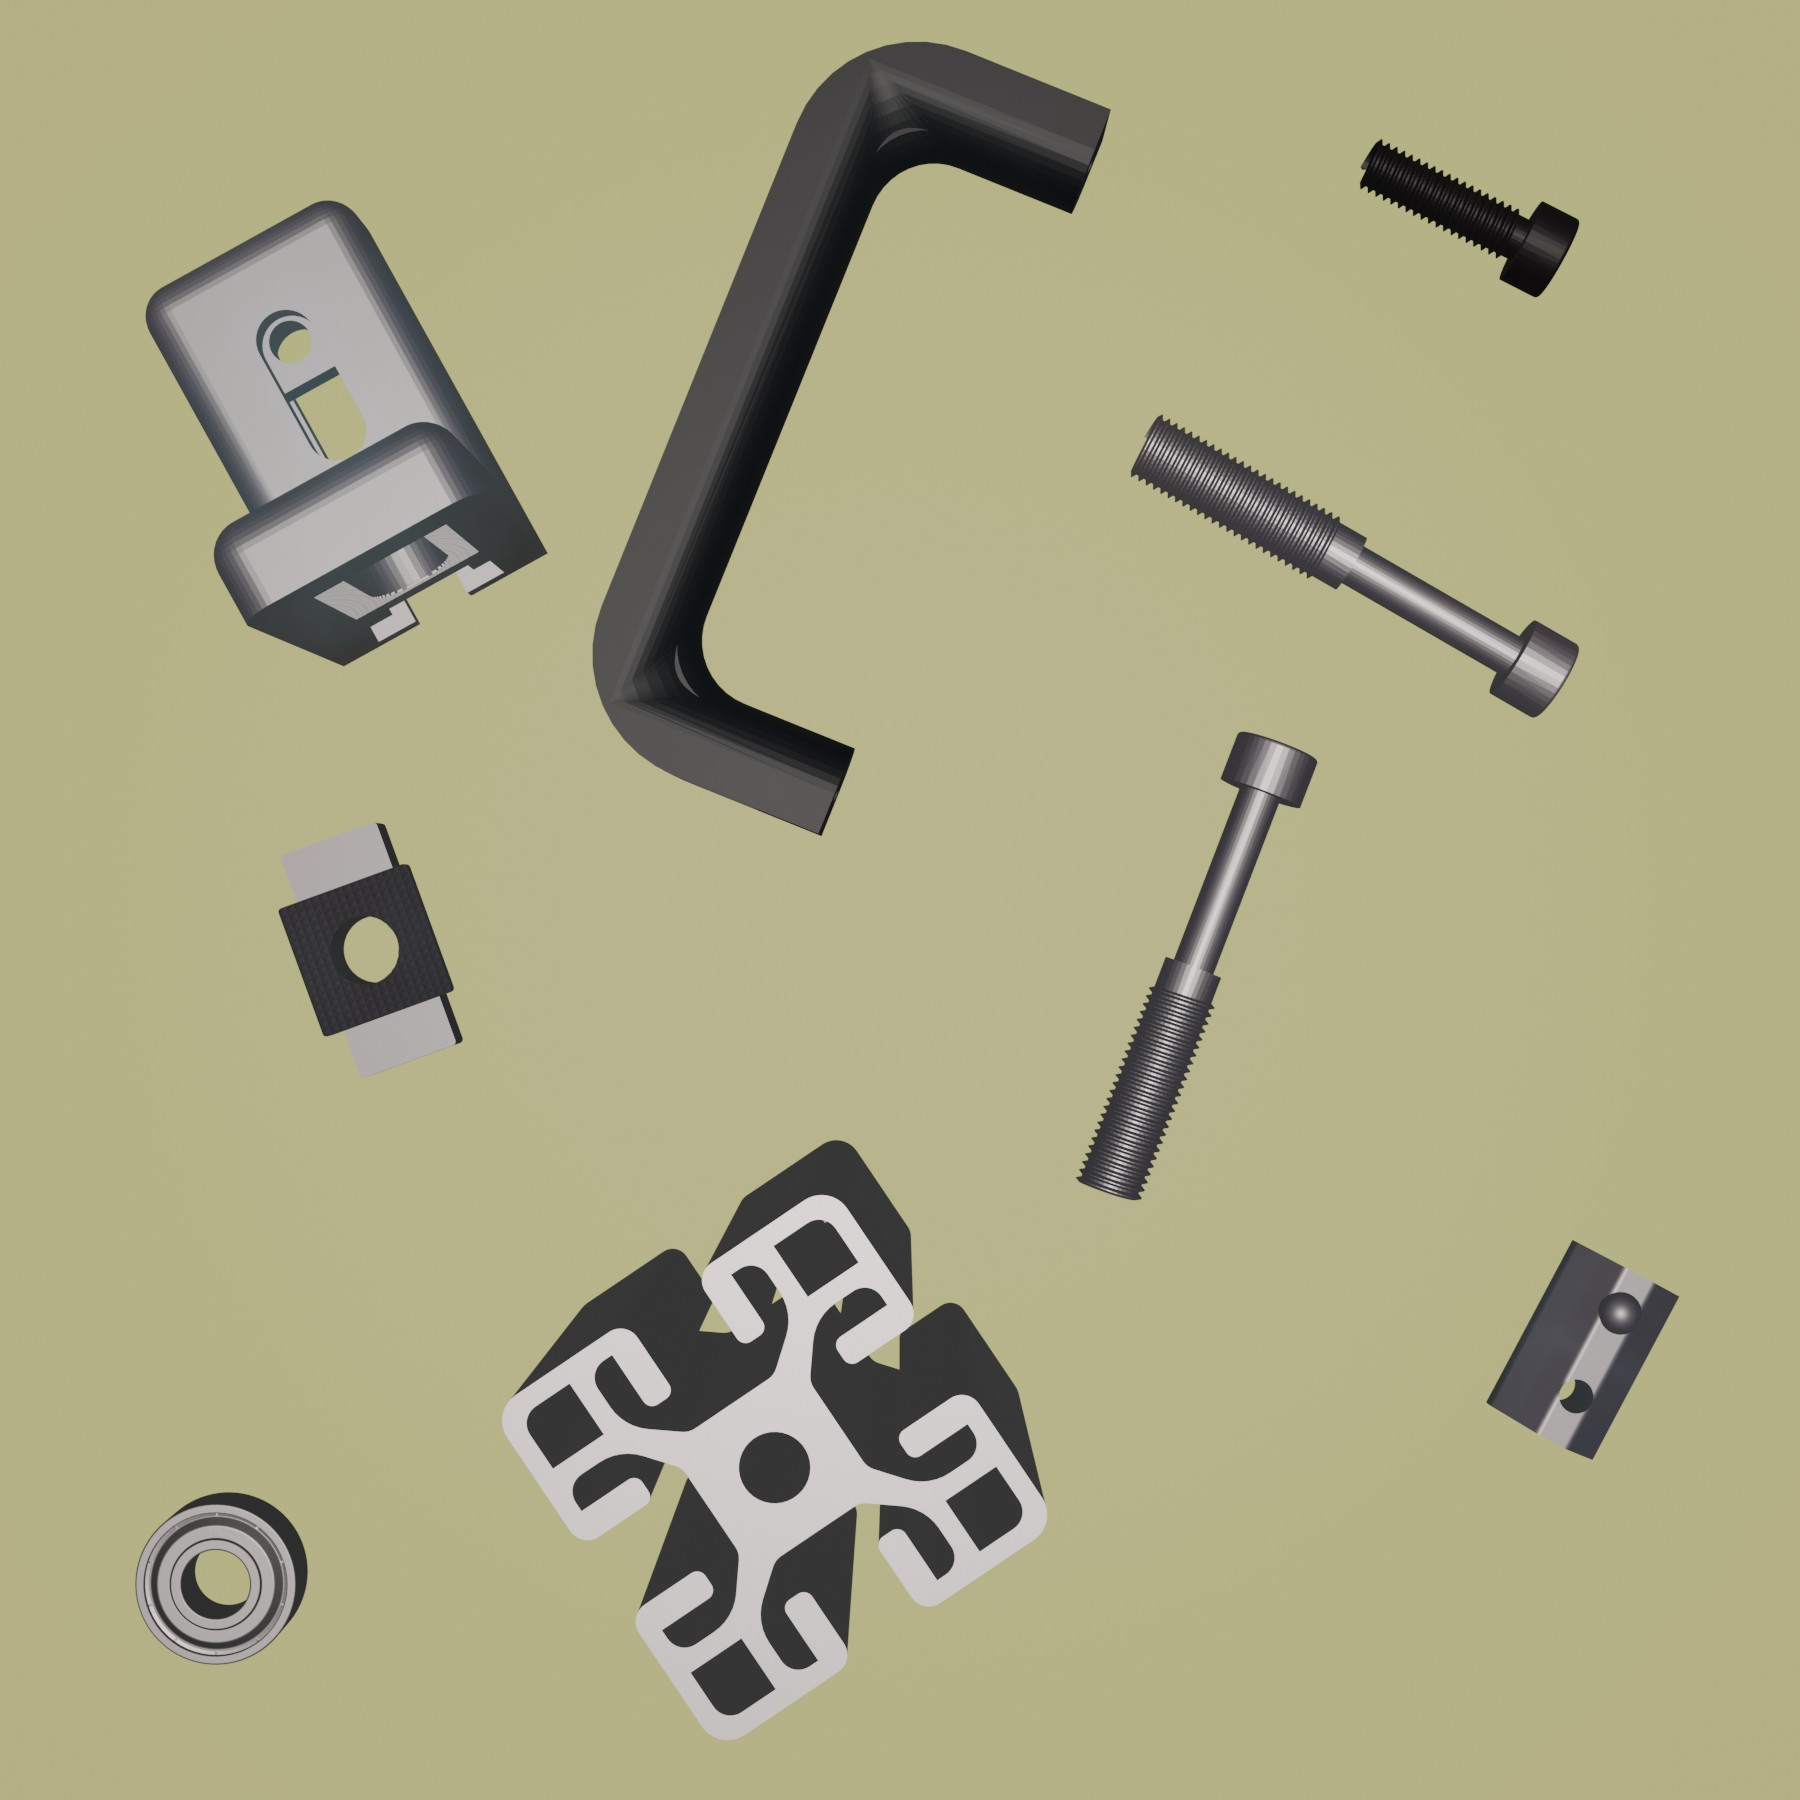Aluminium Extension: (498, 1136, 1052, 1742)
Ball Bearing: (130, 1488, 308, 1670)
Multiwinkel: (142, 196, 551, 668)
Pull Handle: (590, 38, 1113, 842)
Shoulder Socket Head Cap Screw: (1127, 412, 1582, 719), (1075, 725, 1319, 1203)
Socket Head Cap Screw: (1355, 137, 1582, 300)
T Nut Square: (277, 814, 466, 1081)
T Spring Nut: (1484, 1235, 1681, 1462)
